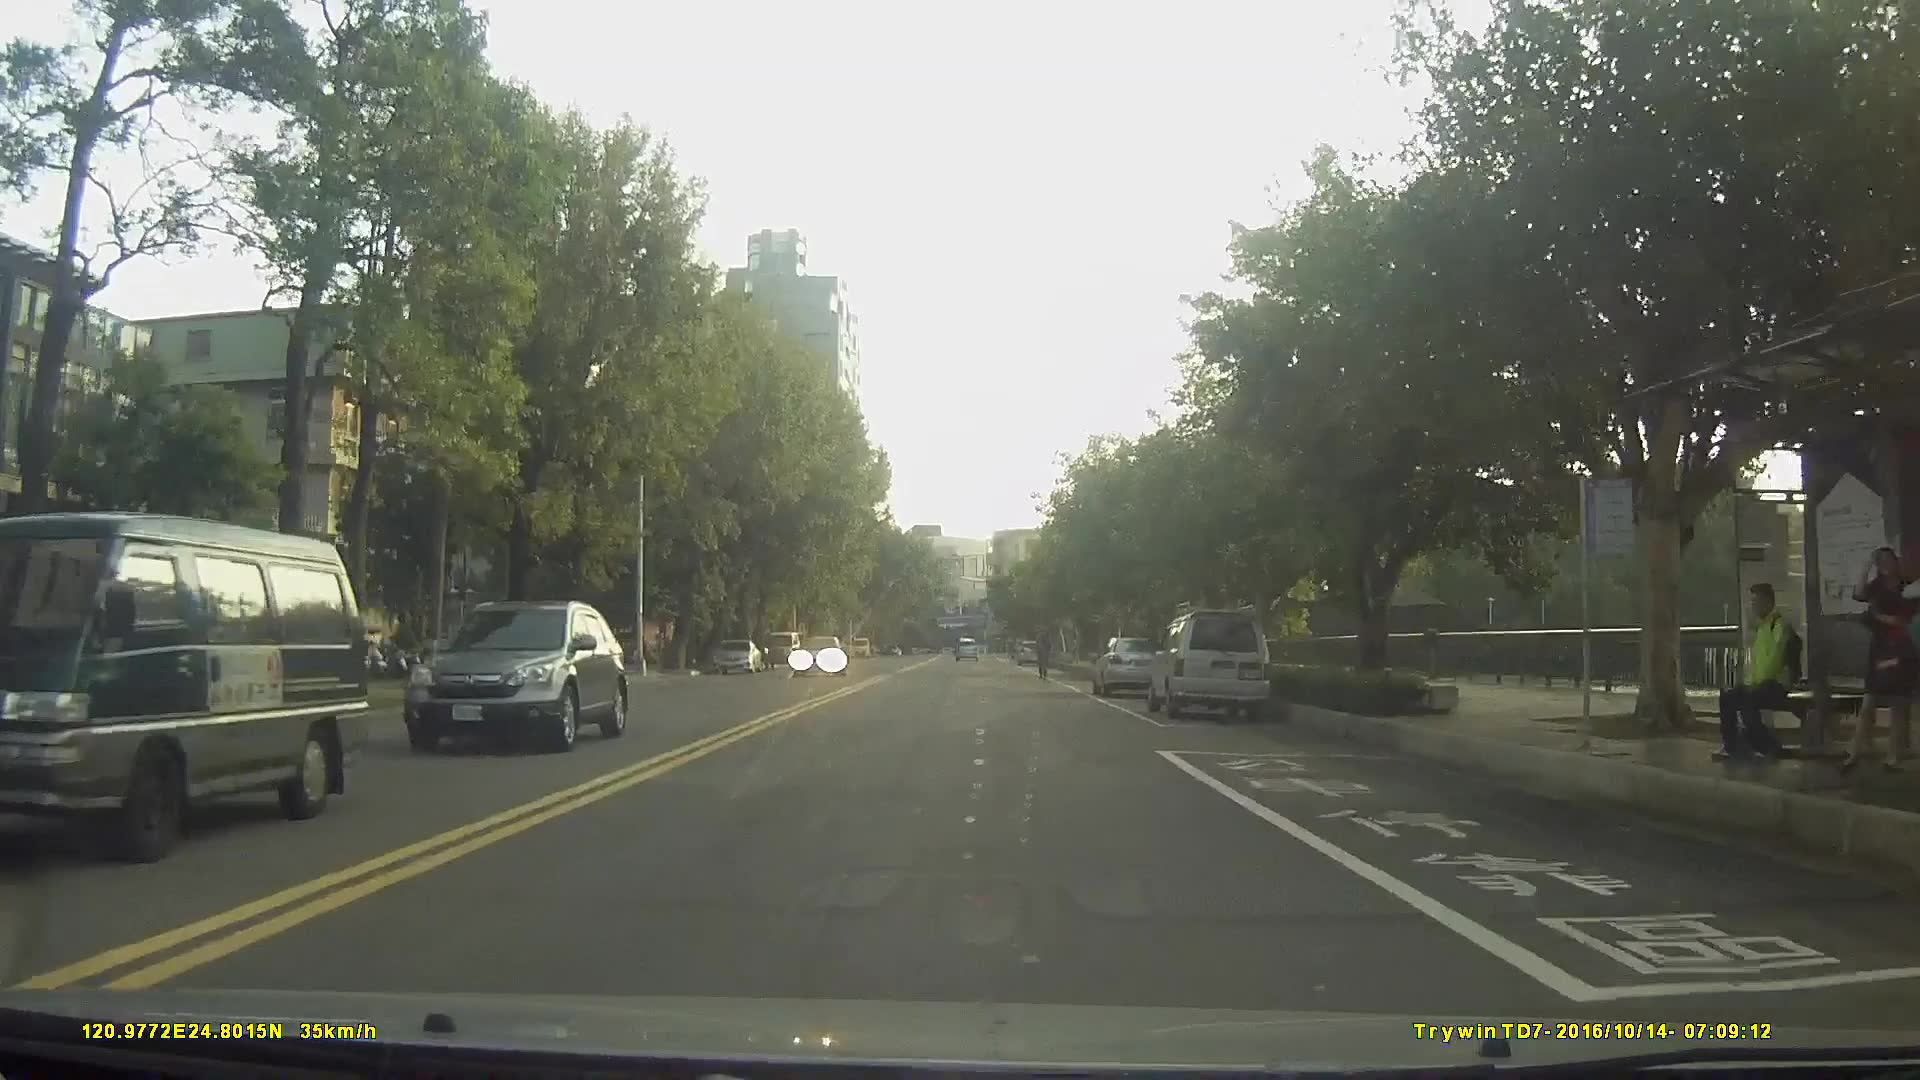pedestrian: (1716, 575, 1823, 783), (1849, 547, 1920, 772), (1893, 532, 1920, 796)
rider: (1033, 630, 1053, 687)
vehicle: (0, 510, 373, 864), (400, 599, 630, 754), (1146, 611, 1274, 723), (1093, 634, 1164, 697), (788, 633, 845, 680), (710, 637, 760, 676), (764, 628, 801, 668), (1016, 640, 1044, 668), (953, 635, 980, 661)
